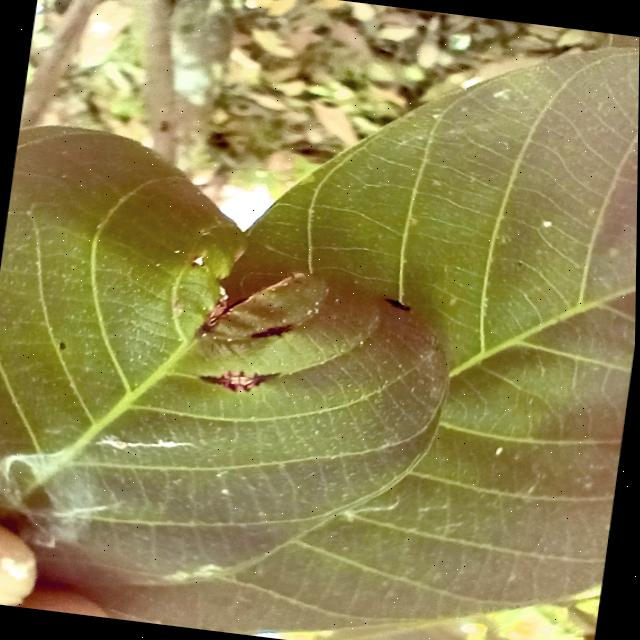Corynespora: (198, 362, 281, 398), (251, 319, 294, 344)
